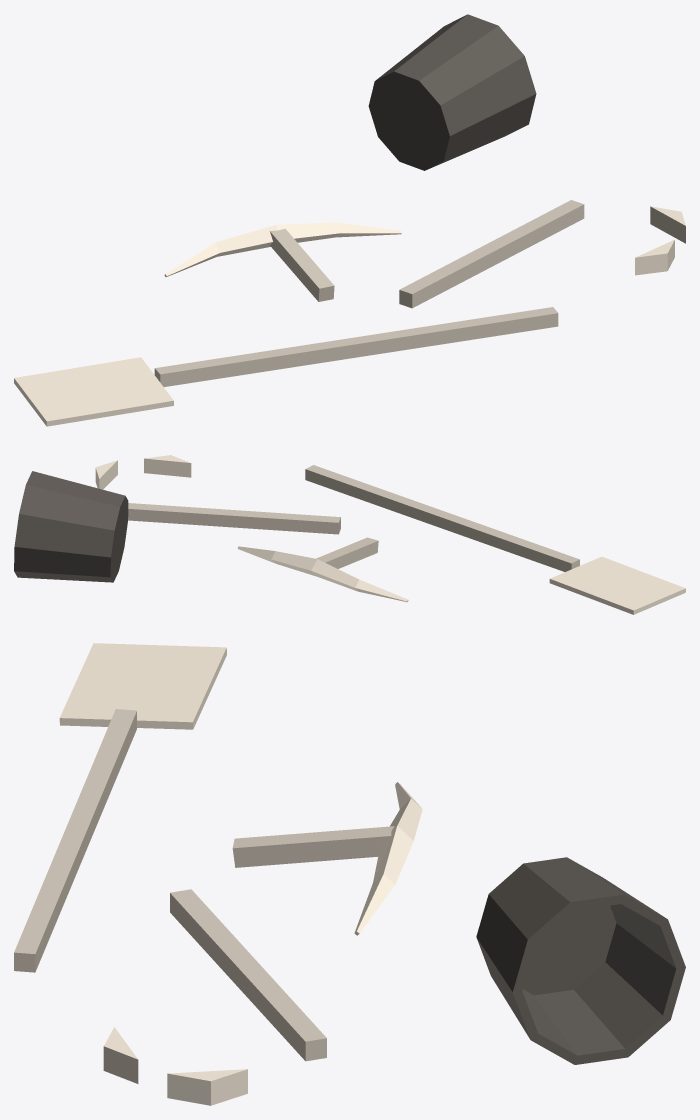
File: SM_VKI_Overlay_Debris_Tools.fbx
3 views of the same model, one above another, from view 1: azimuth 30°, elevation 25°; view 2: azimuth 150°, elevation 25°; view 3: azimuth 270°, elevation 25° (orthographic). The views are drawn at different scales.
Visible parts, largest first — view 1: SM_VKI_Overlay_Debris_Tools.001; view 2: SM_VKI_Overlay_Debris_Tools.001; view 3: SM_VKI_Overlay_Debris_Tools.001.
Boxes of the visible parts, left/top/right/bottom form: SM_VKI_Overlay_Debris_Tools.001: left=14, top=14, right=685, bottom=426; SM_VKI_Overlay_Debris_Tools.001: left=14, top=455, right=685, bottom=614; SM_VKI_Overlay_Debris_Tools.001: left=14, top=643, right=685, bottom=1105.
Size of the model in its own units: 1.59 by 0.2752 by 0.9908.
